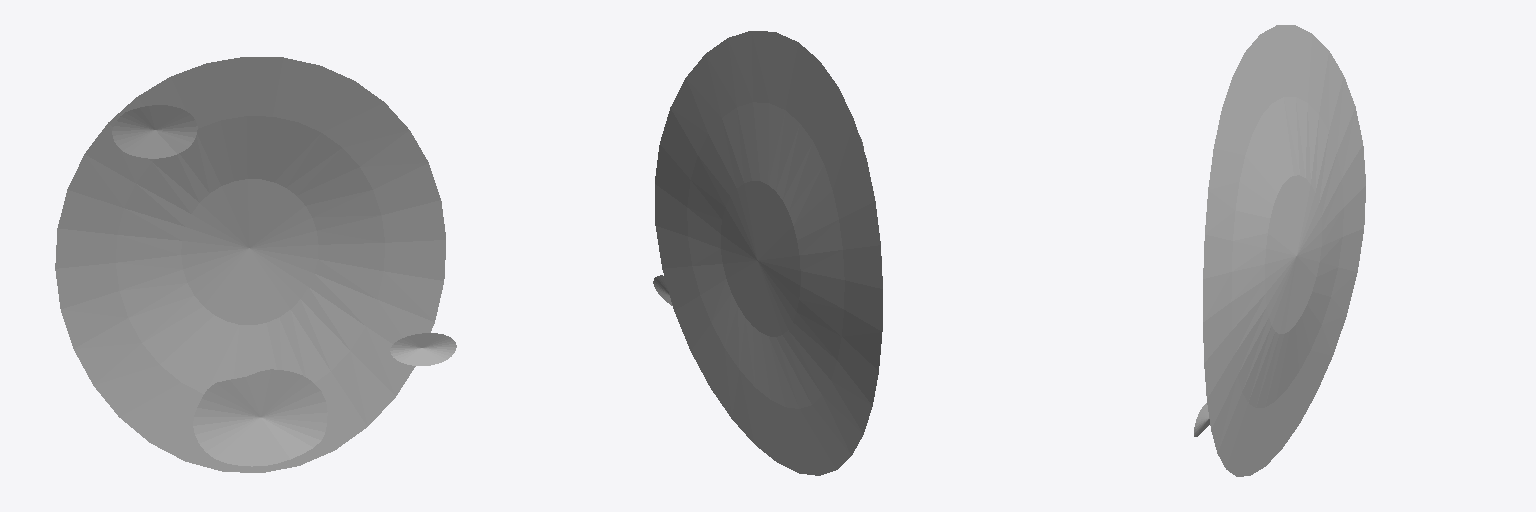
File: RemEyeRightOriginFixed.obj
3 renders of one model, left to right at view 1: azimuth 30°, elevation 25°; view 2: azimuth 150°, elevation 25°; view 3: azimuth 270°, elevation 25°, orthographic.
Parts seen in each view (by area): view 1: Circle.009; view 2: Circle.009; view 3: Circle.009.
Part boxes in pixels (left/top/right/bottom): Circle.009: left=55, top=57, right=456, bottom=472; Circle.009: left=653, top=31, right=882, bottom=475; Circle.009: left=1194, top=25, right=1365, bottom=476.
Size of the model in its own units: 0.1454 by 0.1864 by 0.0689.